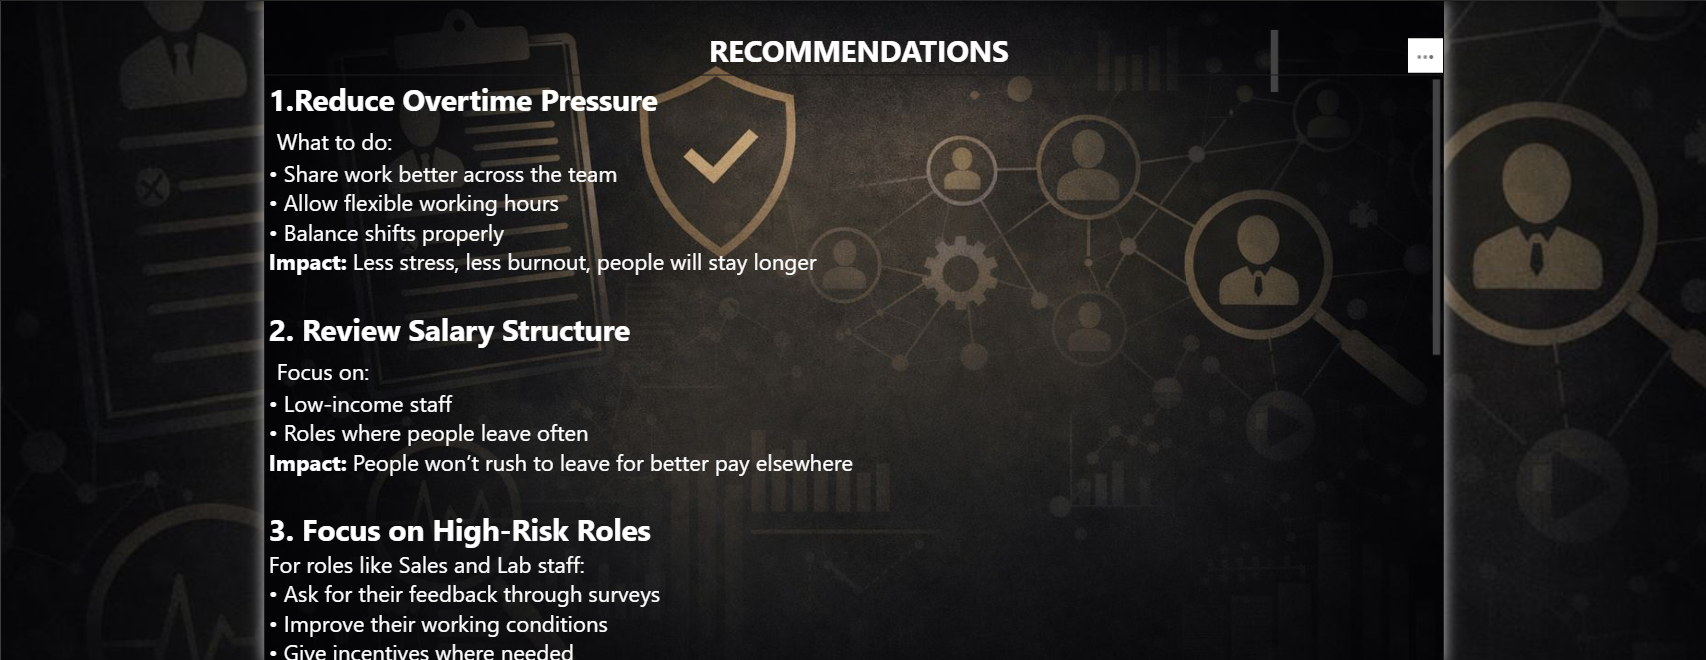

The page's visual inventory and layout, read from the dashboard file:
{"tool":"powerbi","page":{"name":"Page 3","canvas":[1280,720],"ordinal":2},"visuals":[{"type":"textbox","box":[201.7,26,902.7,83],"z":0},{"type":"textbox","box":[0,79.7,1280.1,640.9],"z":1000}]}

Visuals, with their boxes on the page's 1280x720 design canvas (x1, y1, x2, y2). These are canvas units, not pixel positions in the 1706x660 screenshot, which may show the page scaled, cropped or inside an application window:
textbox: <box>202,26,1104,109</box>
textbox: <box>0,80,1280,721</box>
